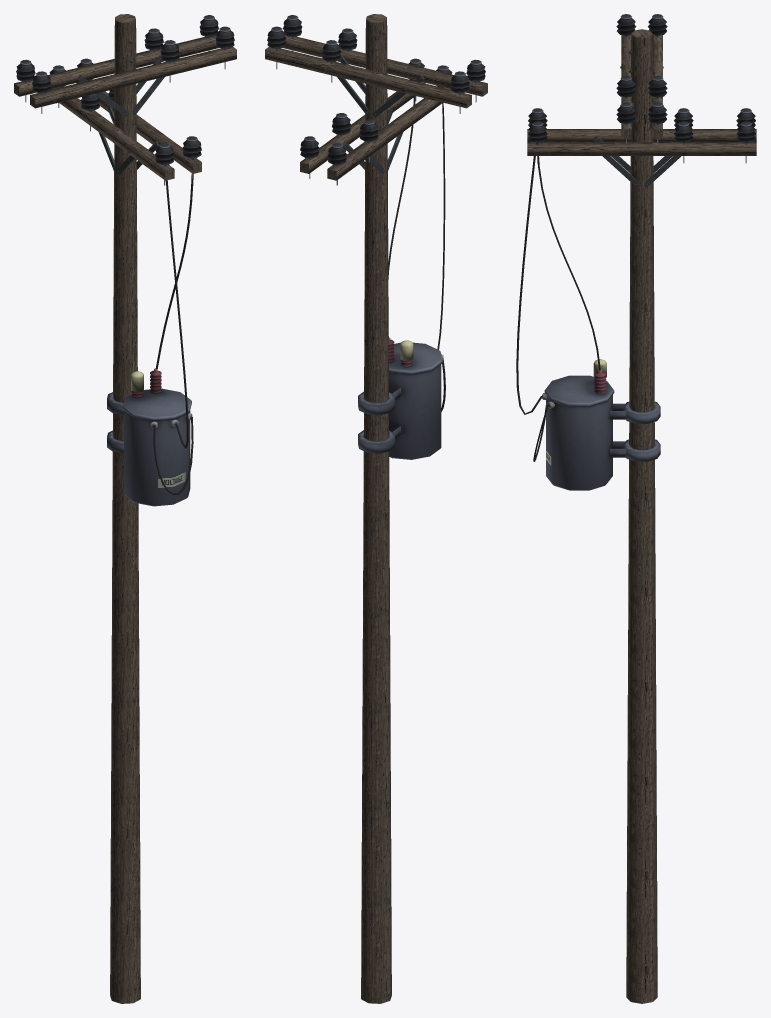
File: pole_wood_f_lod_0.glb
3 views of the same model, side by side, from view 1: azimuth 30°, elevation 25°; view 2: azimuth 150°, elevation 25°; view 3: azimuth 270°, elevation 25° (orthographic).
Parts seen in each view (by area): view 1: pole_wood_f_lod_0; view 2: pole_wood_f_lod_0; view 3: pole_wood_f_lod_0.
Boxes of the visible parts, <box> form: pole_wood_f_lod_0: <box>14,14,236,1003</box>; pole_wood_f_lod_0: <box>265,14,487,1003</box>; pole_wood_f_lod_0: <box>516,14,756,1003</box>.
Bounding box in the file's own units: 2.2 × 10.2 × 2.31.
Materials: 2 (2 with a texture image).
